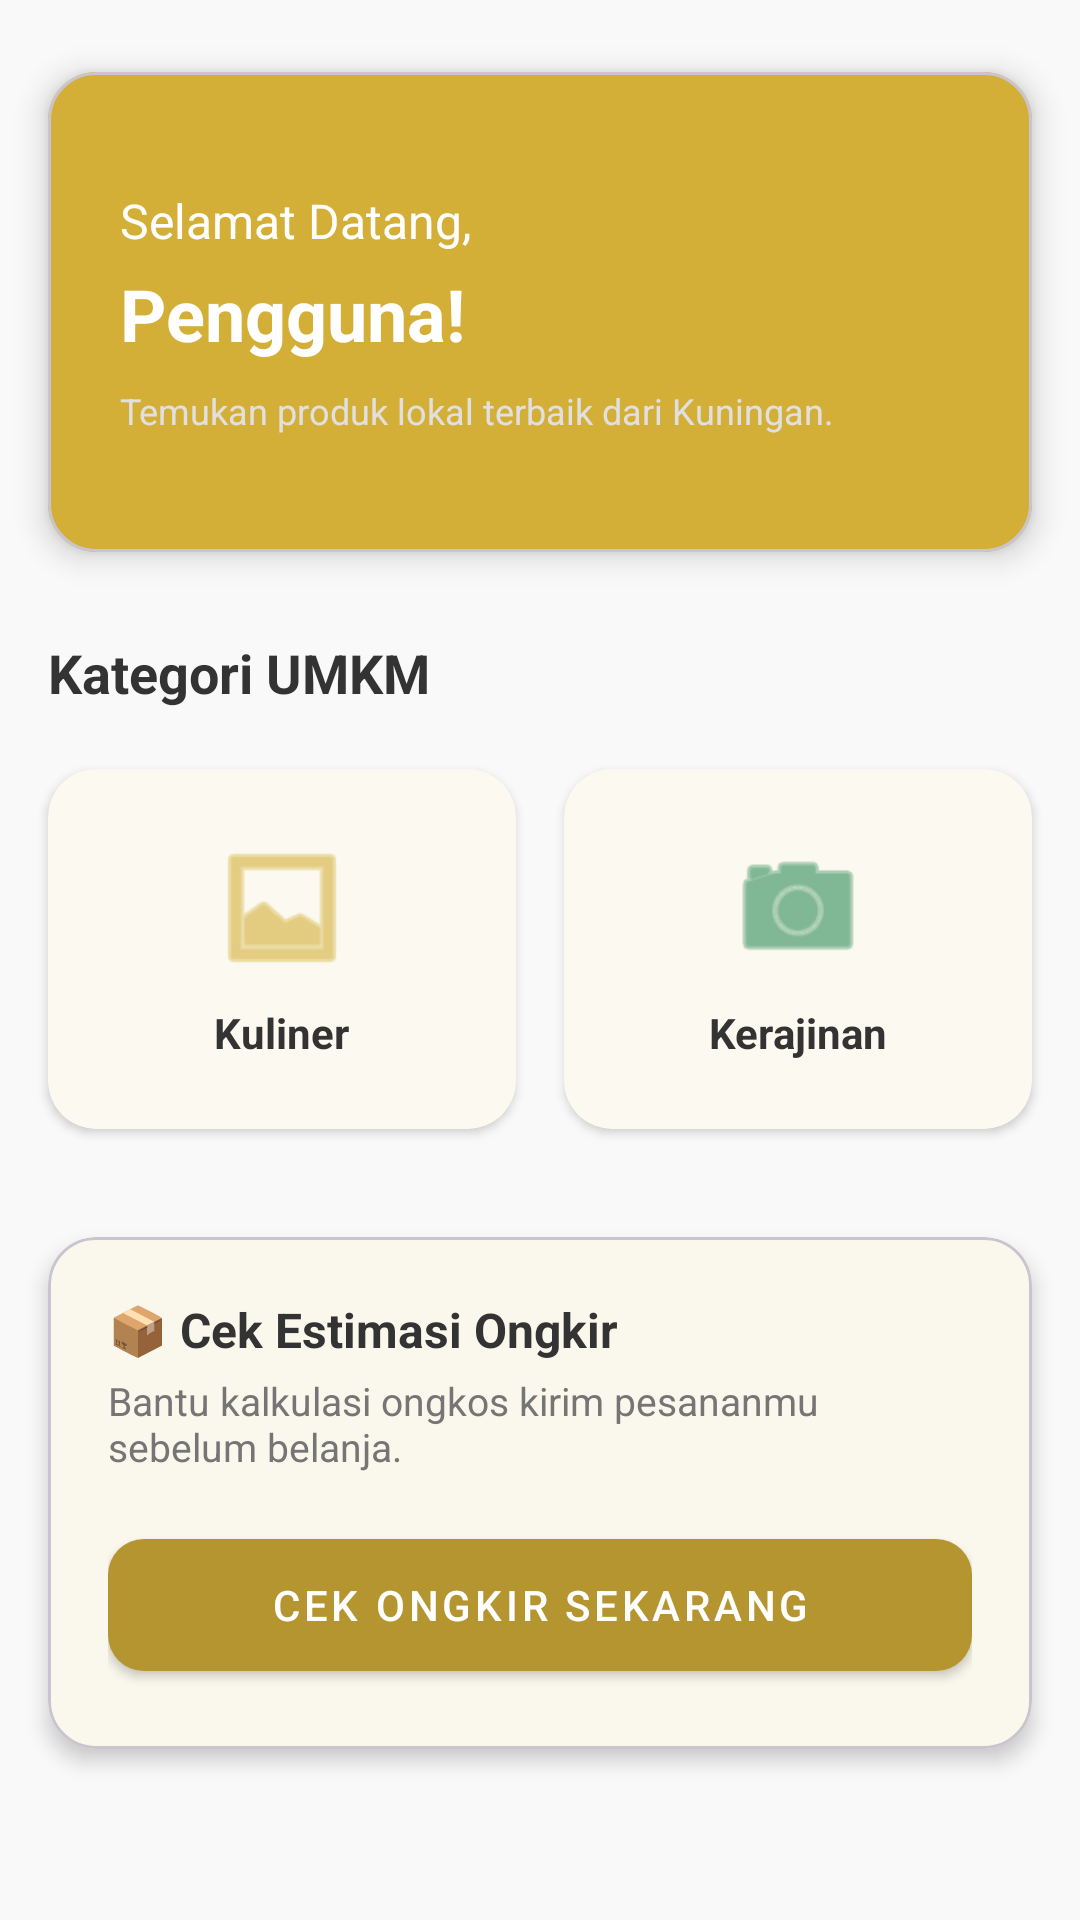

Where icons sit on this 1080px x 1920px app screen, as (x1, y1, x2, y2):
camera: (742, 861, 854, 950)
gallery: (228, 854, 336, 962)
